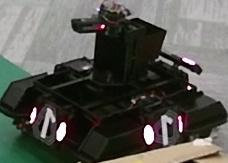armor_1: (31, 107, 66, 141), (144, 115, 183, 144)
